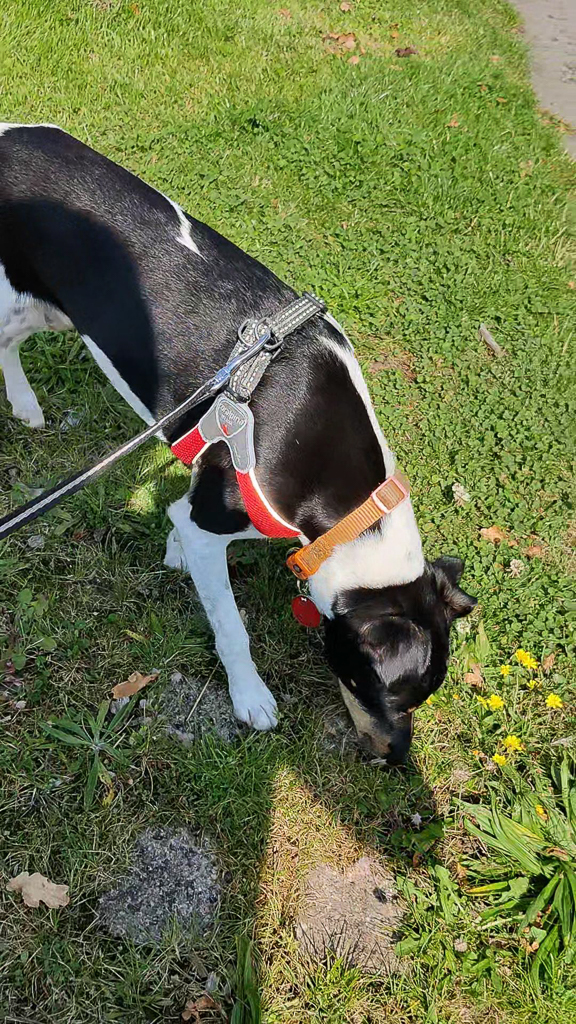Dog: (0, 65, 484, 786)
